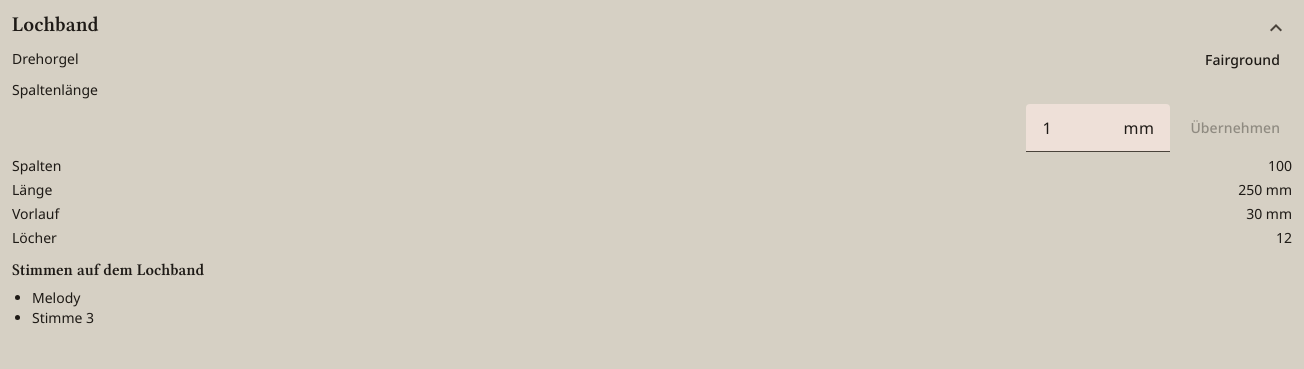
Test case: TapeSectionComponent › changing the Column length (T006) › in German (T017) › shows the Cutting Problems with the typed Column length in German notation
Replace the text in the field with test id "column-length-input" with "1,5": (1083, 128) [1042,116,1124,140]
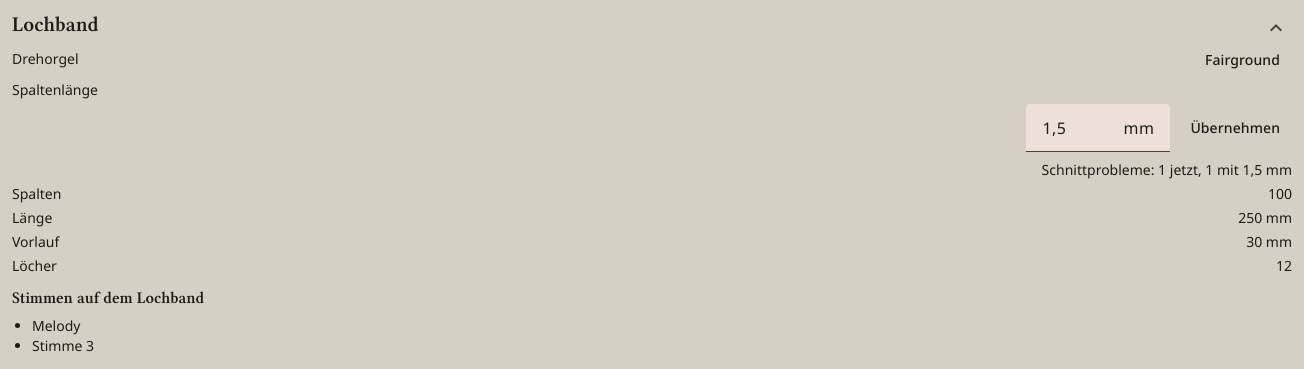
Now the text with test id "column-length-hint" reads "Schnittprobleme: 1 jetzt, 1 mit 1,5 mm", box [1042,160,1292,179]
